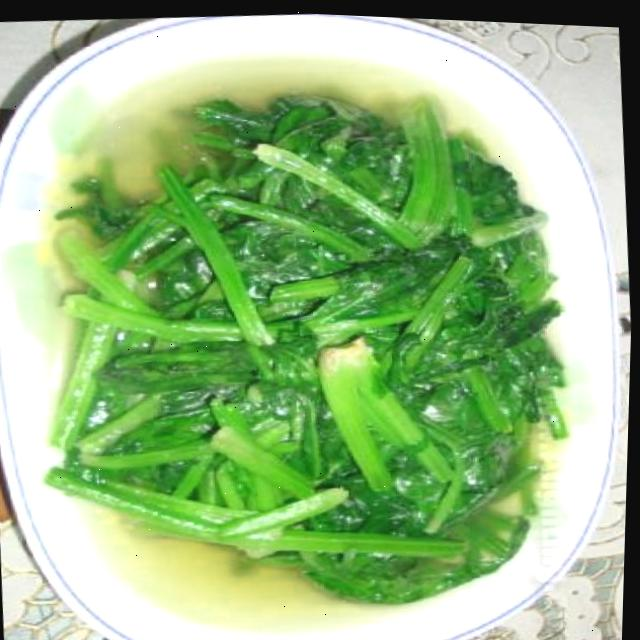蔬菜料理: (0, 28, 630, 640)
